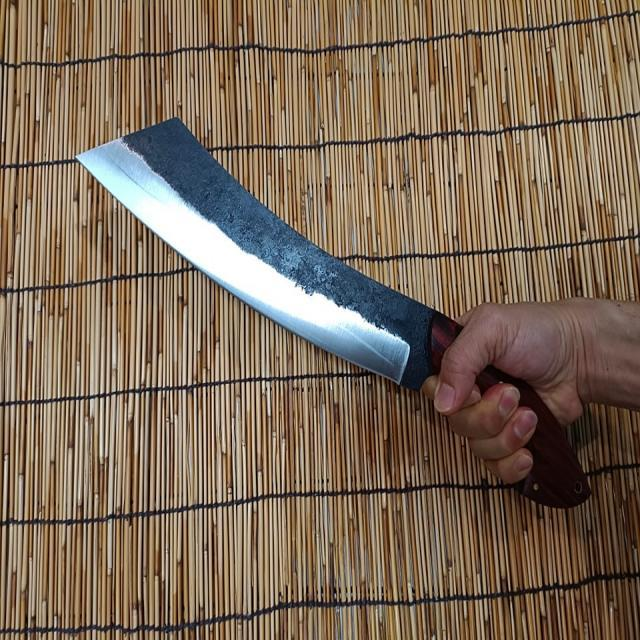eto: (66, 107, 639, 516)
